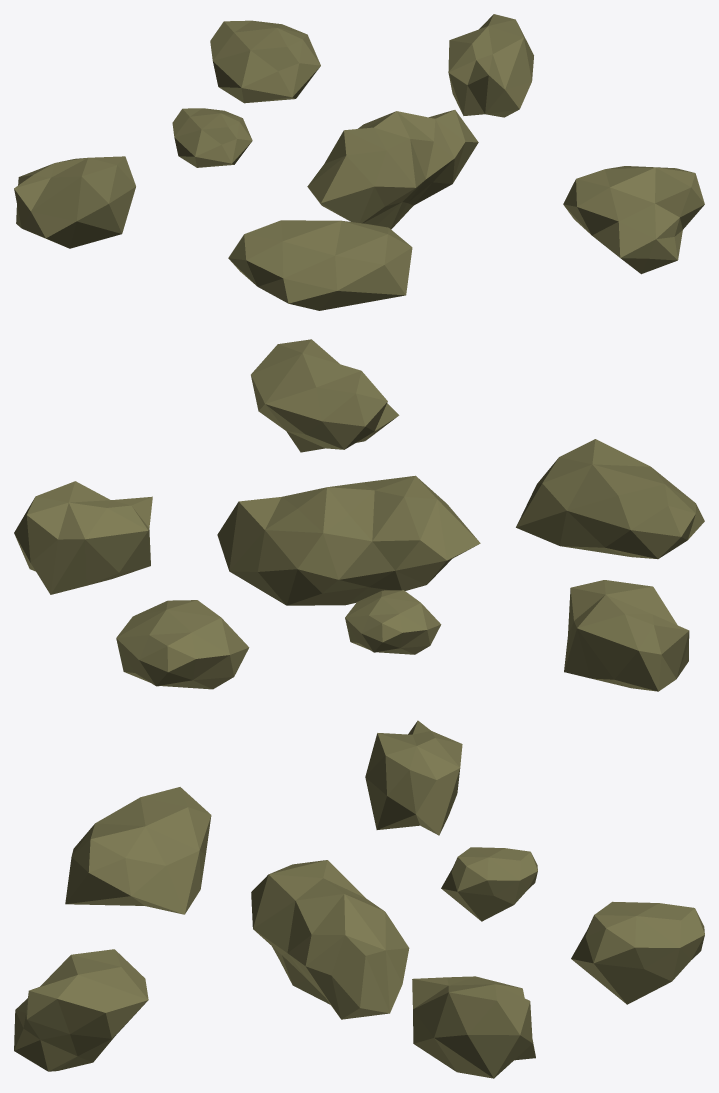
The model's file is Steine_001.gltf.
The picture shows the model from 3 angles, top to bottom: view 1: azimuth 30°, elevation 25°; view 2: azimuth 150°, elevation 25°; view 3: azimuth 270°, elevation 25°; orthographic projection. The views are drawn at different scales.
Visible parts, largest first — view 1: Steine.001; view 2: Steine.001; view 3: Steine.001.
Boxes of the visible parts, <box> form: Steine.001: <box>14,14,704,310</box>; Steine.001: <box>14,339,704,691</box>; Steine.001: <box>14,720,704,1078</box>.
Size of the model in its own units: 0.8321 by 0.1417 by 0.8133.
